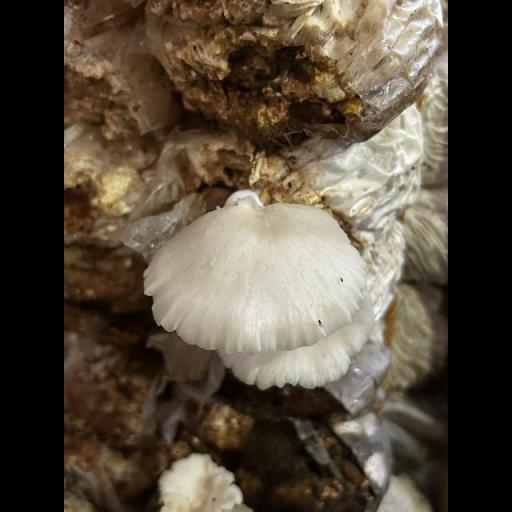White Oyster Mushroom: (144, 175, 387, 411)
